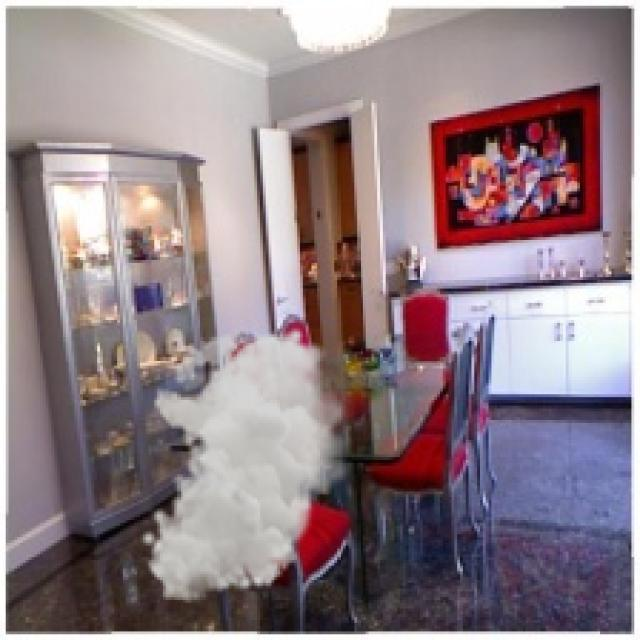Smoke: (140, 326, 354, 603)
